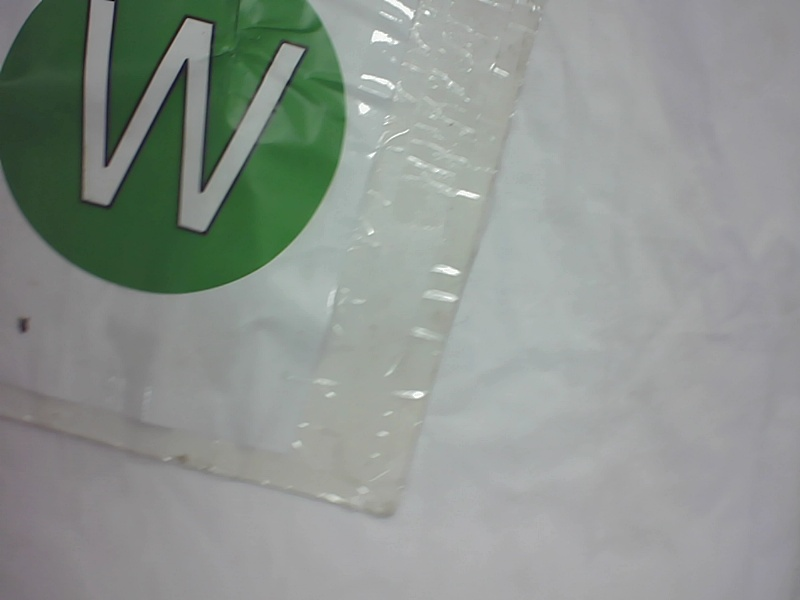areaB: (0, 0, 347, 284)
